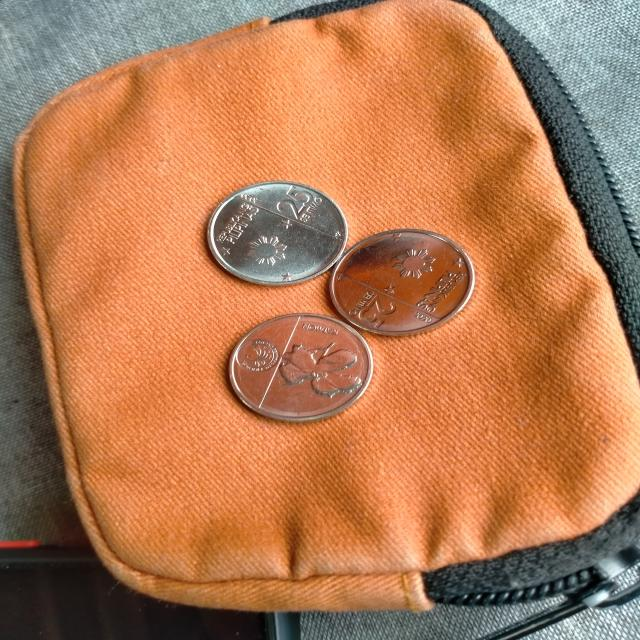25Cent_New_Back: (276, 338, 357, 406)
25Cent_New_Front: (262, 182, 328, 224), (343, 287, 404, 332)
